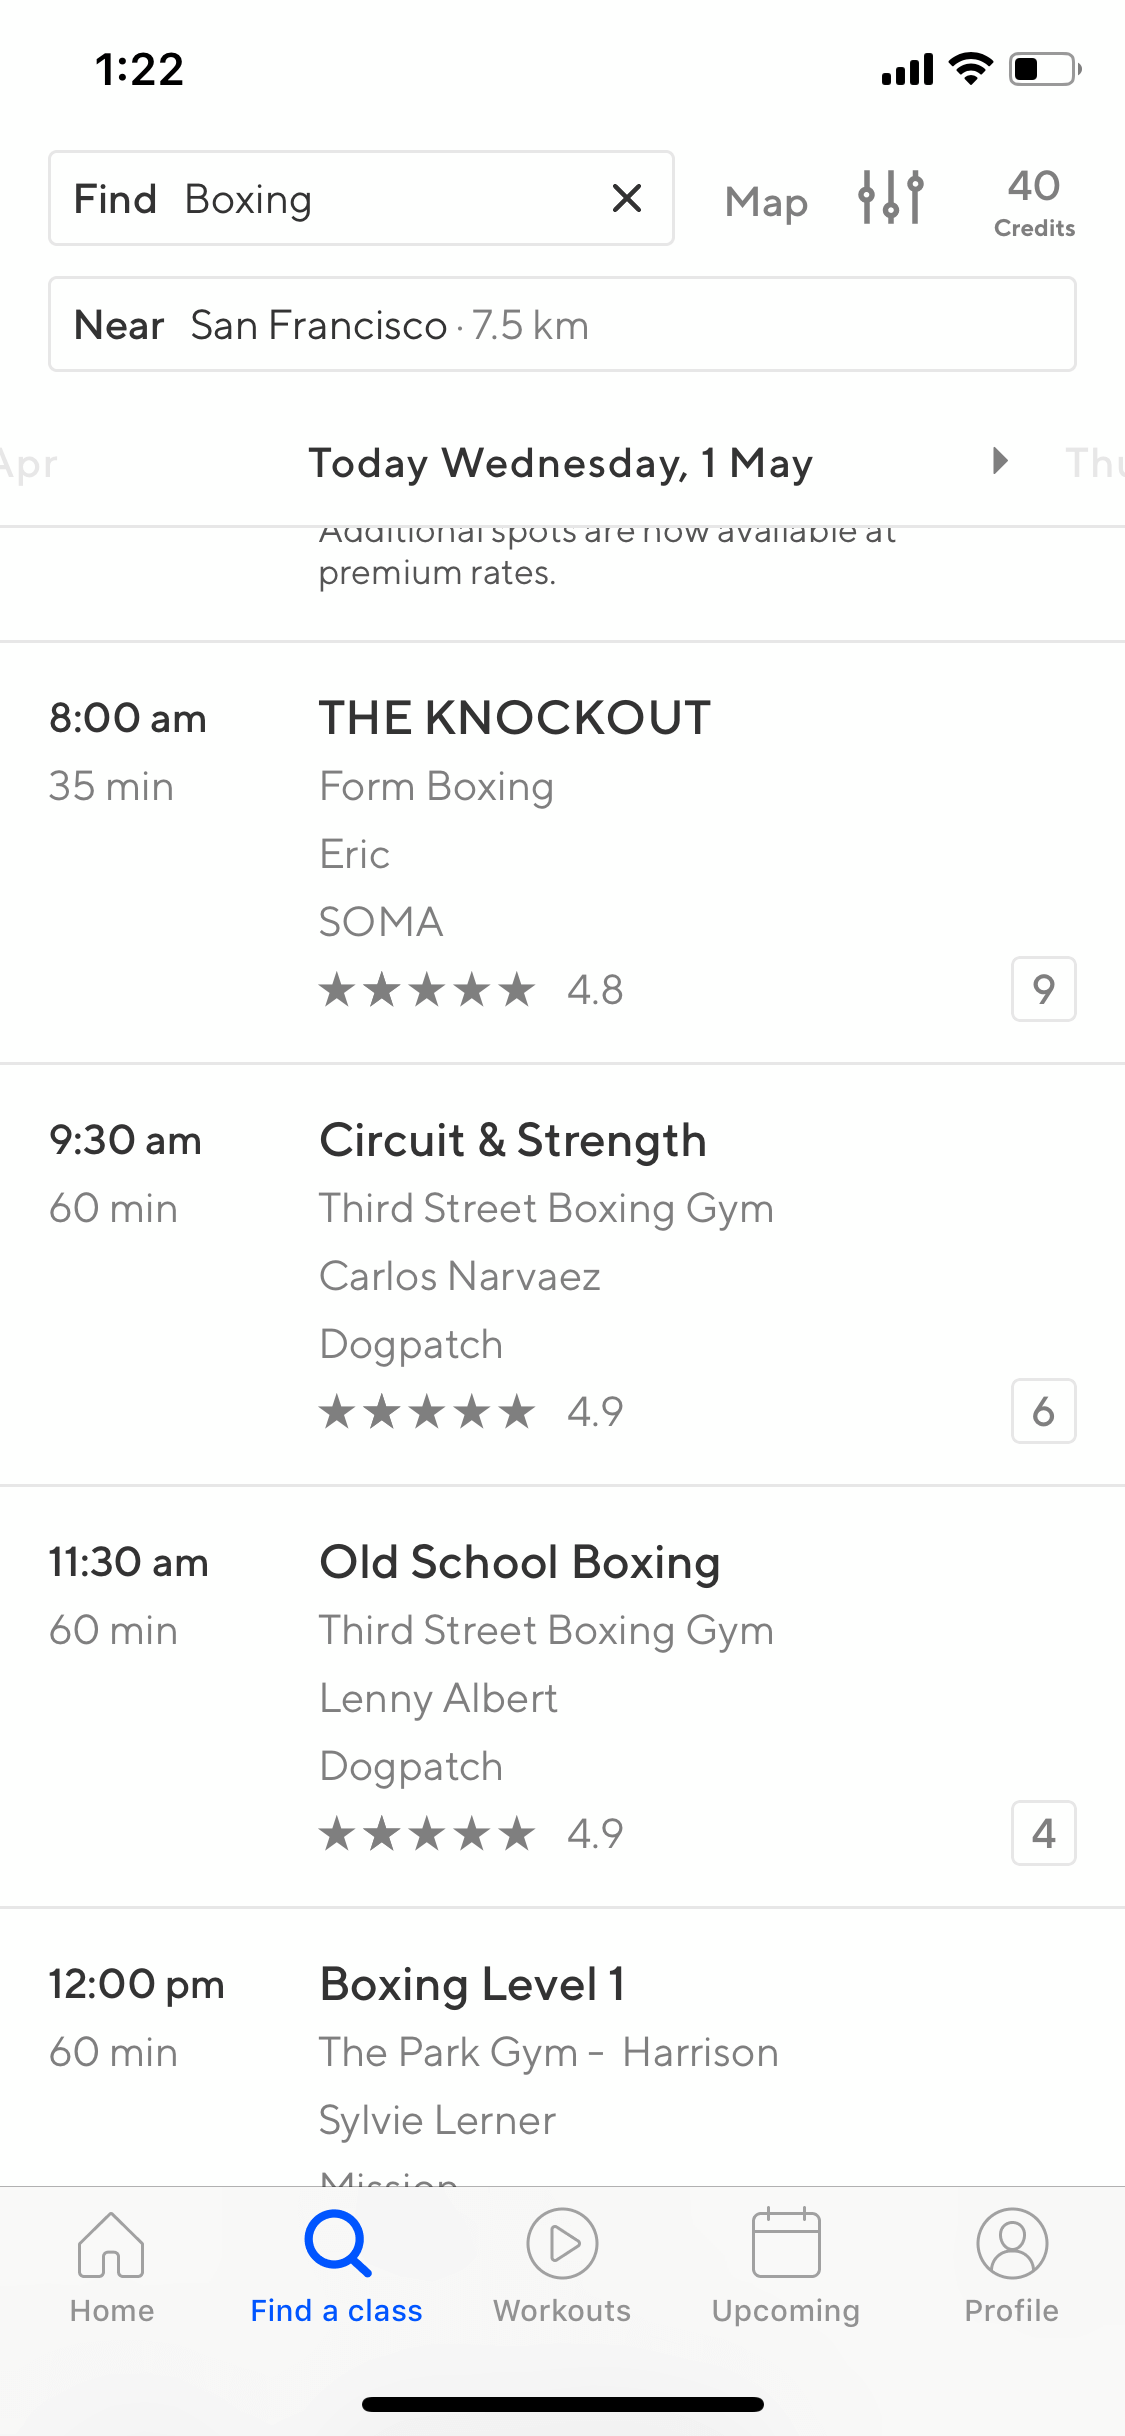Buttons: (824, 138, 943, 259), (982, 137, 1092, 263)
Rating: (301, 1373, 650, 1437), (303, 962, 653, 1018), (306, 1804, 636, 1863)
